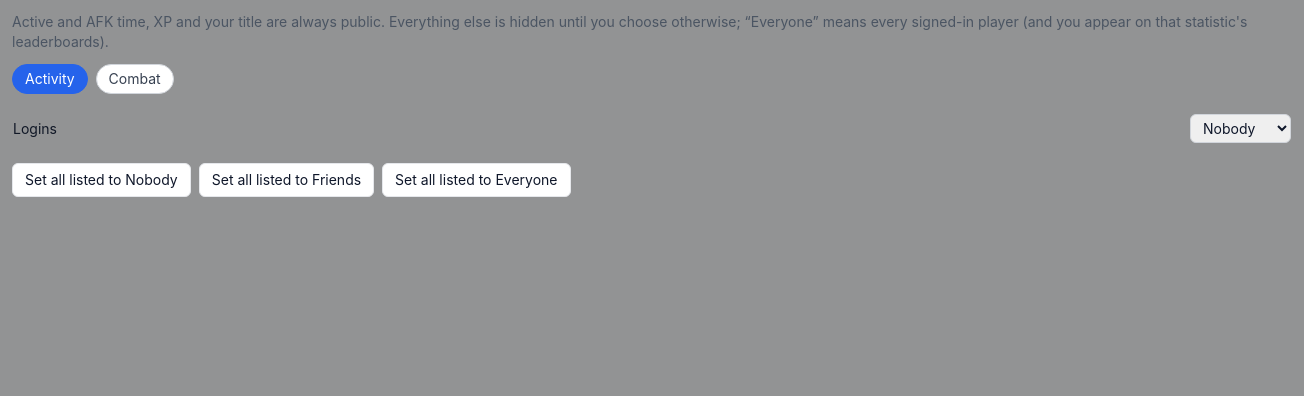
Scenario: StatisticsVisibilitySettings › handles a conflict by showing the current settings and saying nothing was changed
This screenshot has width=1304, height=396.
Click the tab "Combat" at (135, 79), box [96,64,174,94]
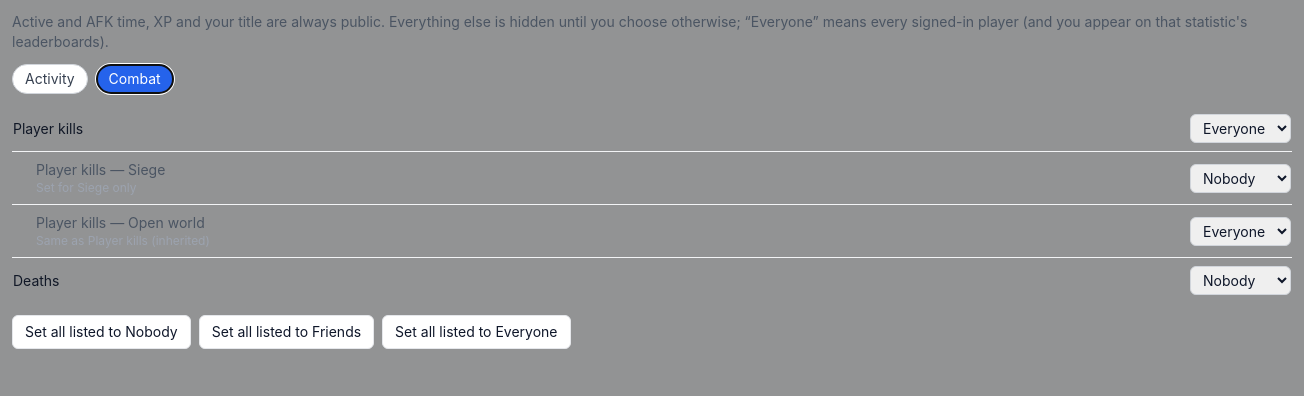
Select "Friends" in the dropdown named "Player kills" at (1240, 128), box [1190,114,1291,143]
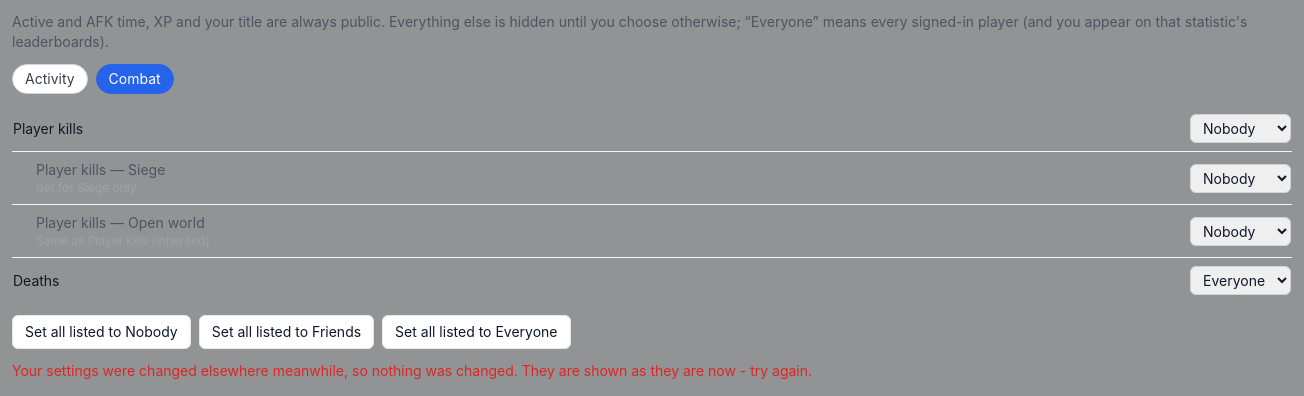
Check: the message shows "changed elsewhere meanwhile, so nothing was changed", box [12,362,812,379]
Check: the dropdown named "Deaths" shows "Everyone", box [1190,266,1291,295]
